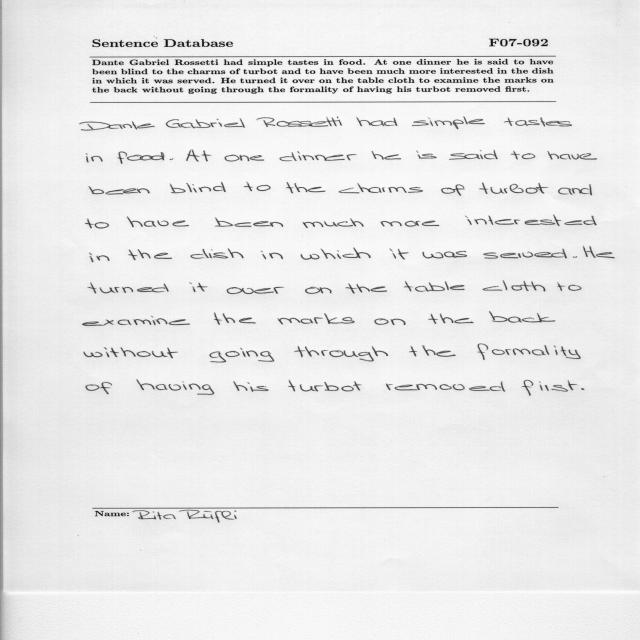word: (478, 344, 581, 360), (465, 215, 597, 226), (294, 346, 388, 361), (386, 381, 505, 392), (137, 379, 214, 395), (83, 316, 190, 326), (84, 347, 178, 358), (210, 348, 275, 363), (412, 117, 485, 130), (257, 116, 342, 127), (301, 247, 371, 260), (88, 283, 169, 294), (166, 118, 245, 129), (278, 314, 355, 325), (339, 184, 423, 194), (483, 249, 567, 259), (479, 182, 548, 194), (522, 380, 577, 395), (288, 381, 362, 392), (489, 311, 555, 323), (279, 151, 357, 161), (80, 121, 155, 131), (215, 217, 283, 227), (404, 281, 465, 292), (483, 281, 546, 291), (127, 217, 189, 227), (170, 182, 226, 193), (504, 118, 572, 127), (118, 151, 165, 164), (303, 218, 364, 228), (190, 248, 244, 259), (409, 345, 456, 357), (89, 186, 150, 195), (214, 312, 256, 325), (428, 313, 474, 324), (449, 150, 498, 160), (128, 250, 172, 261), (345, 283, 387, 294), (547, 151, 597, 160), (286, 182, 326, 193), (227, 287, 284, 294), (233, 381, 269, 392), (583, 246, 615, 258), (558, 184, 592, 195), (357, 118, 398, 127), (381, 221, 439, 227), (422, 251, 467, 258), (86, 382, 112, 394), (225, 155, 265, 162), (186, 150, 211, 161), (441, 185, 465, 196), (372, 151, 401, 160), (244, 182, 271, 191), (85, 219, 109, 229), (389, 249, 409, 260), (375, 318, 406, 325), (511, 151, 535, 160), (557, 282, 581, 291), (189, 283, 208, 293), (416, 150, 437, 159), (305, 287, 332, 294), (90, 253, 110, 262), (261, 251, 283, 259), (86, 153, 103, 162), (170, 158, 174, 160), (573, 256, 577, 258), (581, 388, 585, 390)
